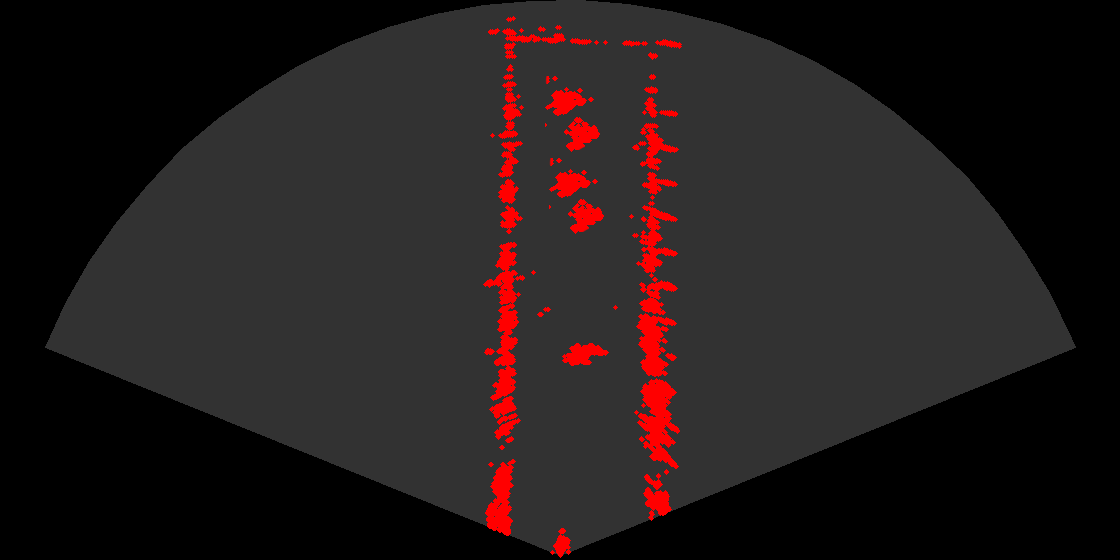AUV: (556, 341, 612, 373)
cage: (545, 76, 608, 160), (549, 158, 612, 242)
